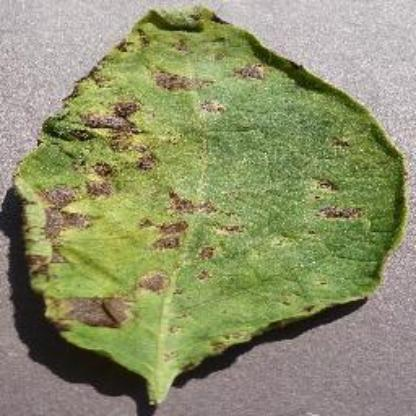Early-Blight: (8, 1, 416, 411)
